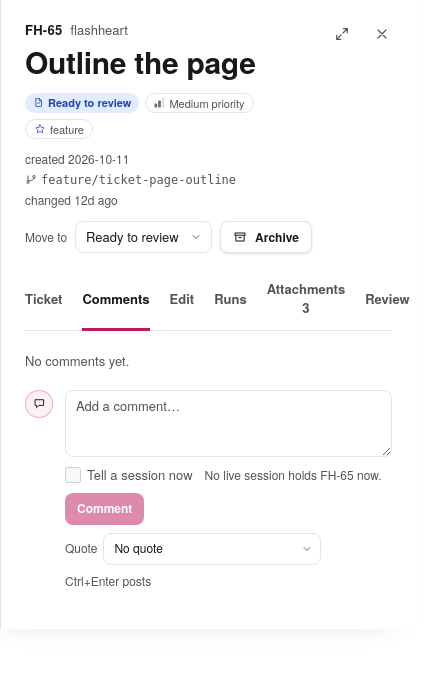
it: the comment box on the card panel (FH-125, FH-128) › keeps the text with the error beside it when a post fails
Type "Keep me." into the text box labelled "Add a comment" at (228, 424), box x1=65 y1=390 x2=392 y2=457
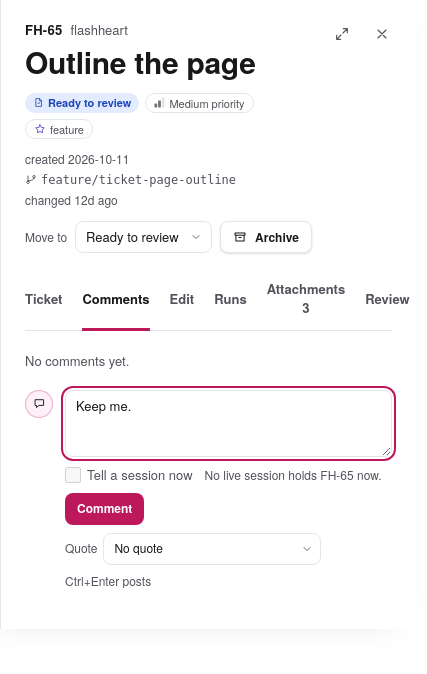
Click the button "Comment" at (105, 508), box x1=65 y1=492 x2=144 y2=524
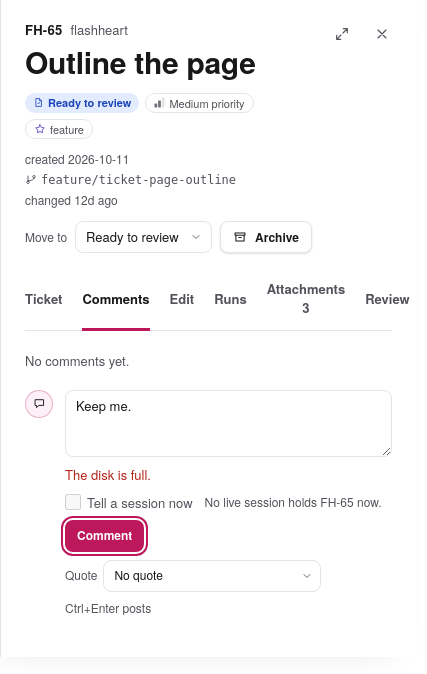
Now the message reads "The disk is full.", box x1=65 y1=465 x2=151 y2=484
